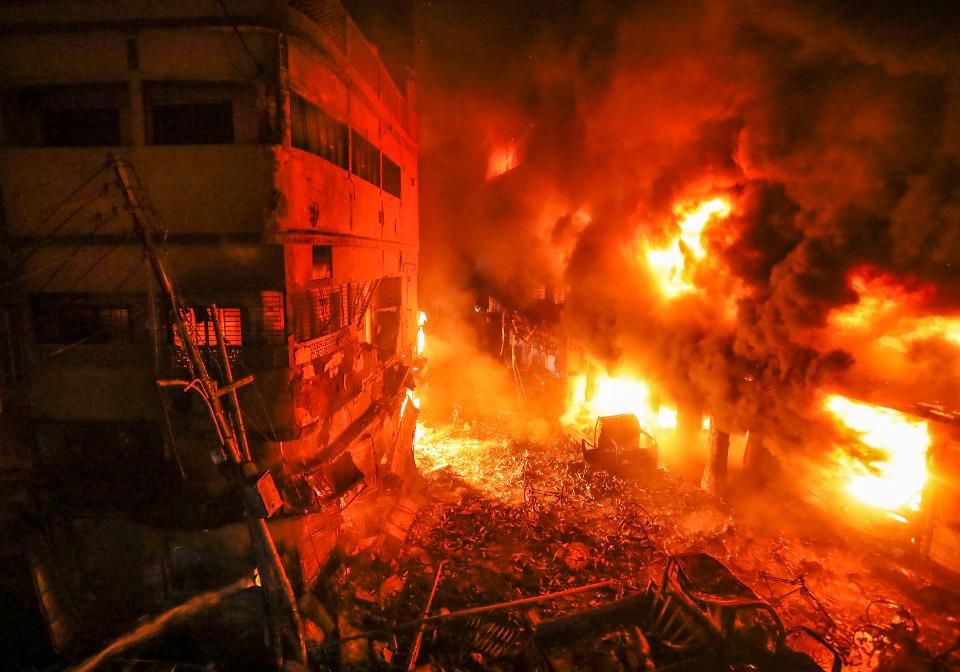Fire: (811, 46, 938, 237), (810, 384, 942, 535), (595, 79, 789, 181), (633, 195, 734, 296), (821, 280, 945, 360), (689, 397, 759, 494), (559, 372, 678, 429), (412, 429, 504, 475), (485, 144, 528, 185), (403, 372, 430, 421), (412, 311, 431, 353)
